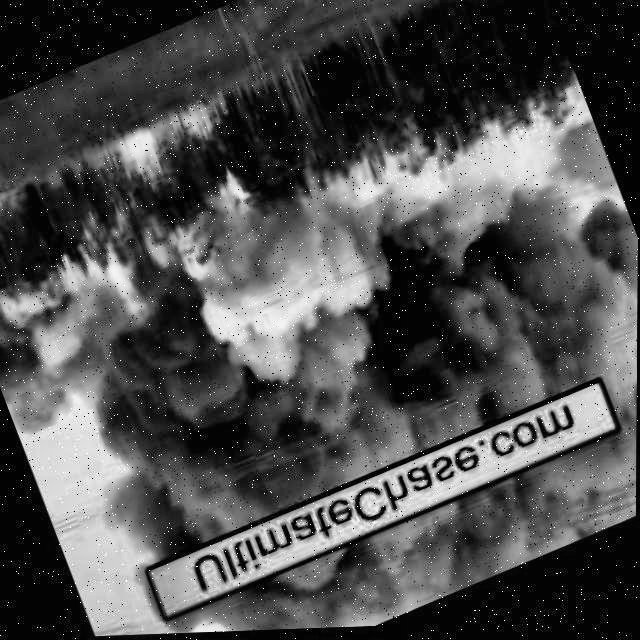Fire: (168, 100, 261, 229), (97, 244, 156, 334), (117, 124, 174, 201)
Smoke: (36, 100, 639, 588), (189, 411, 637, 634)
